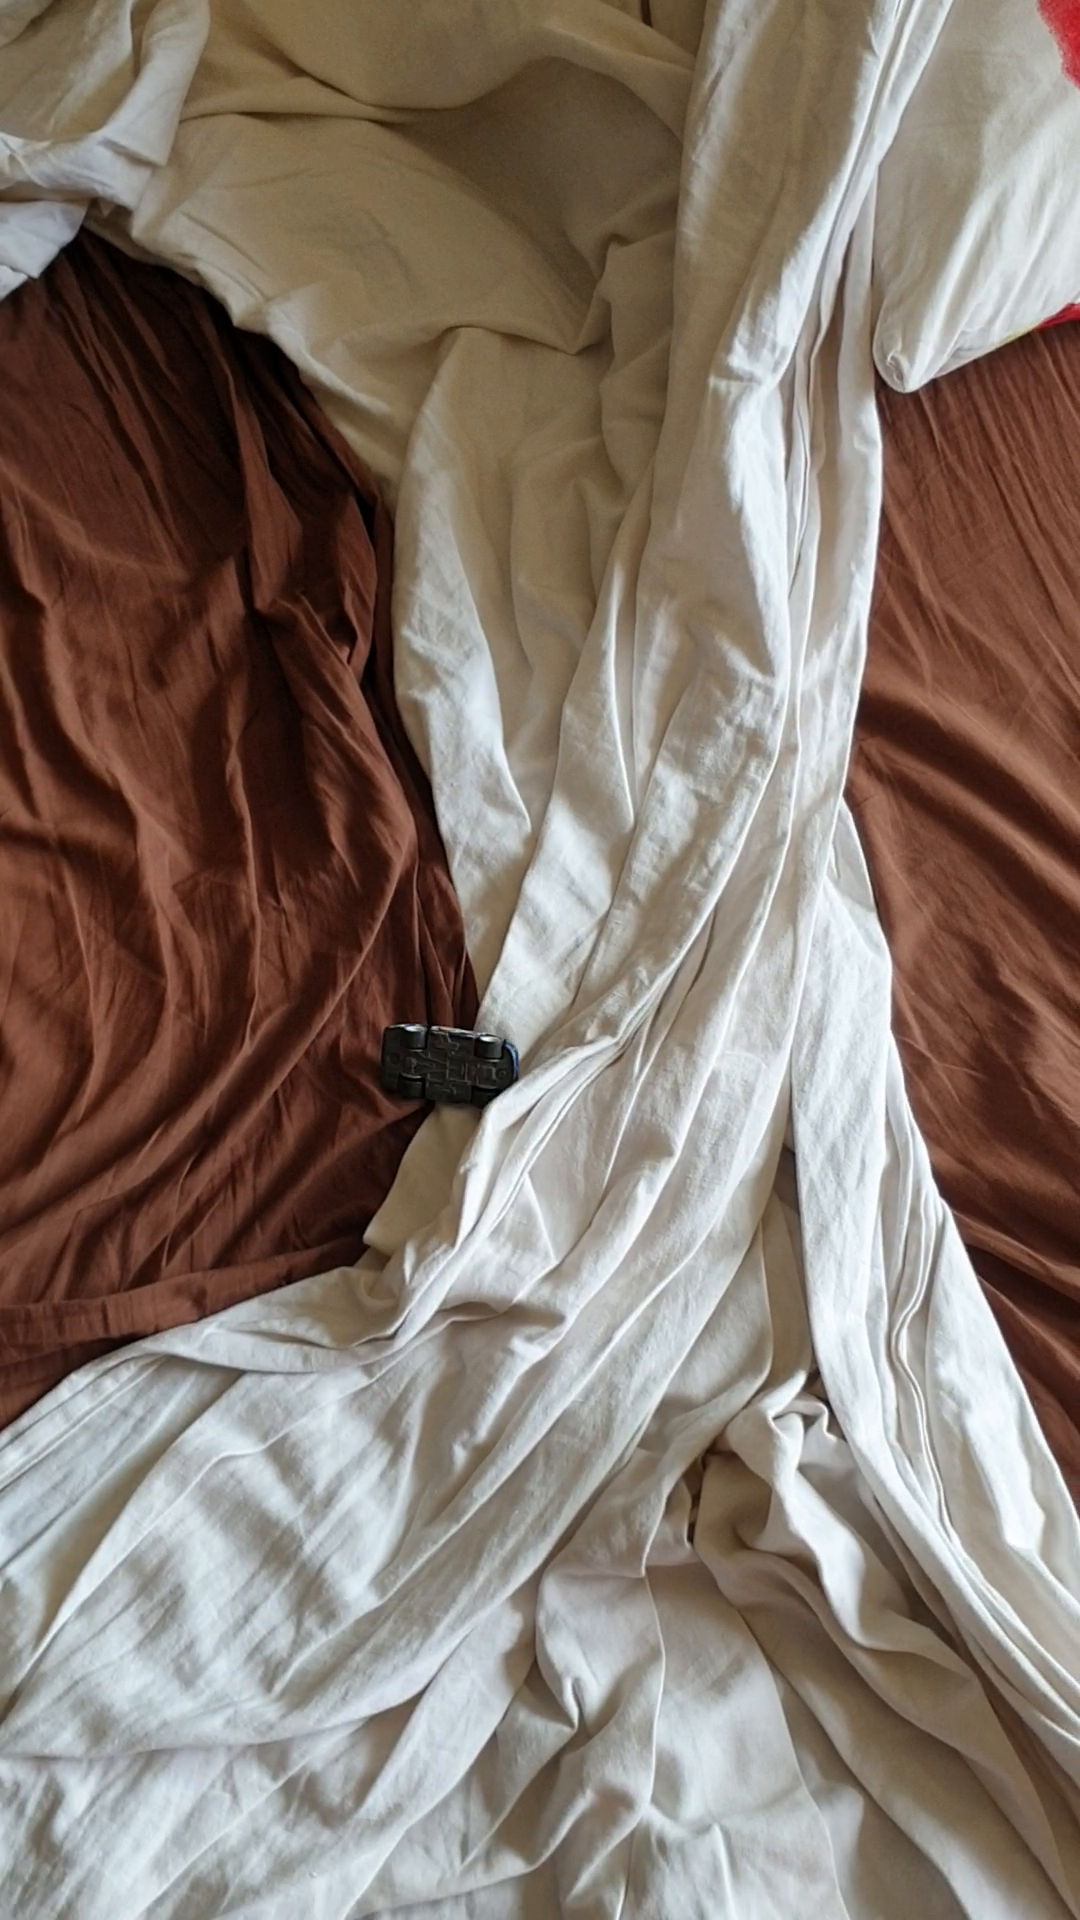cars: (372, 1022, 521, 1113)
